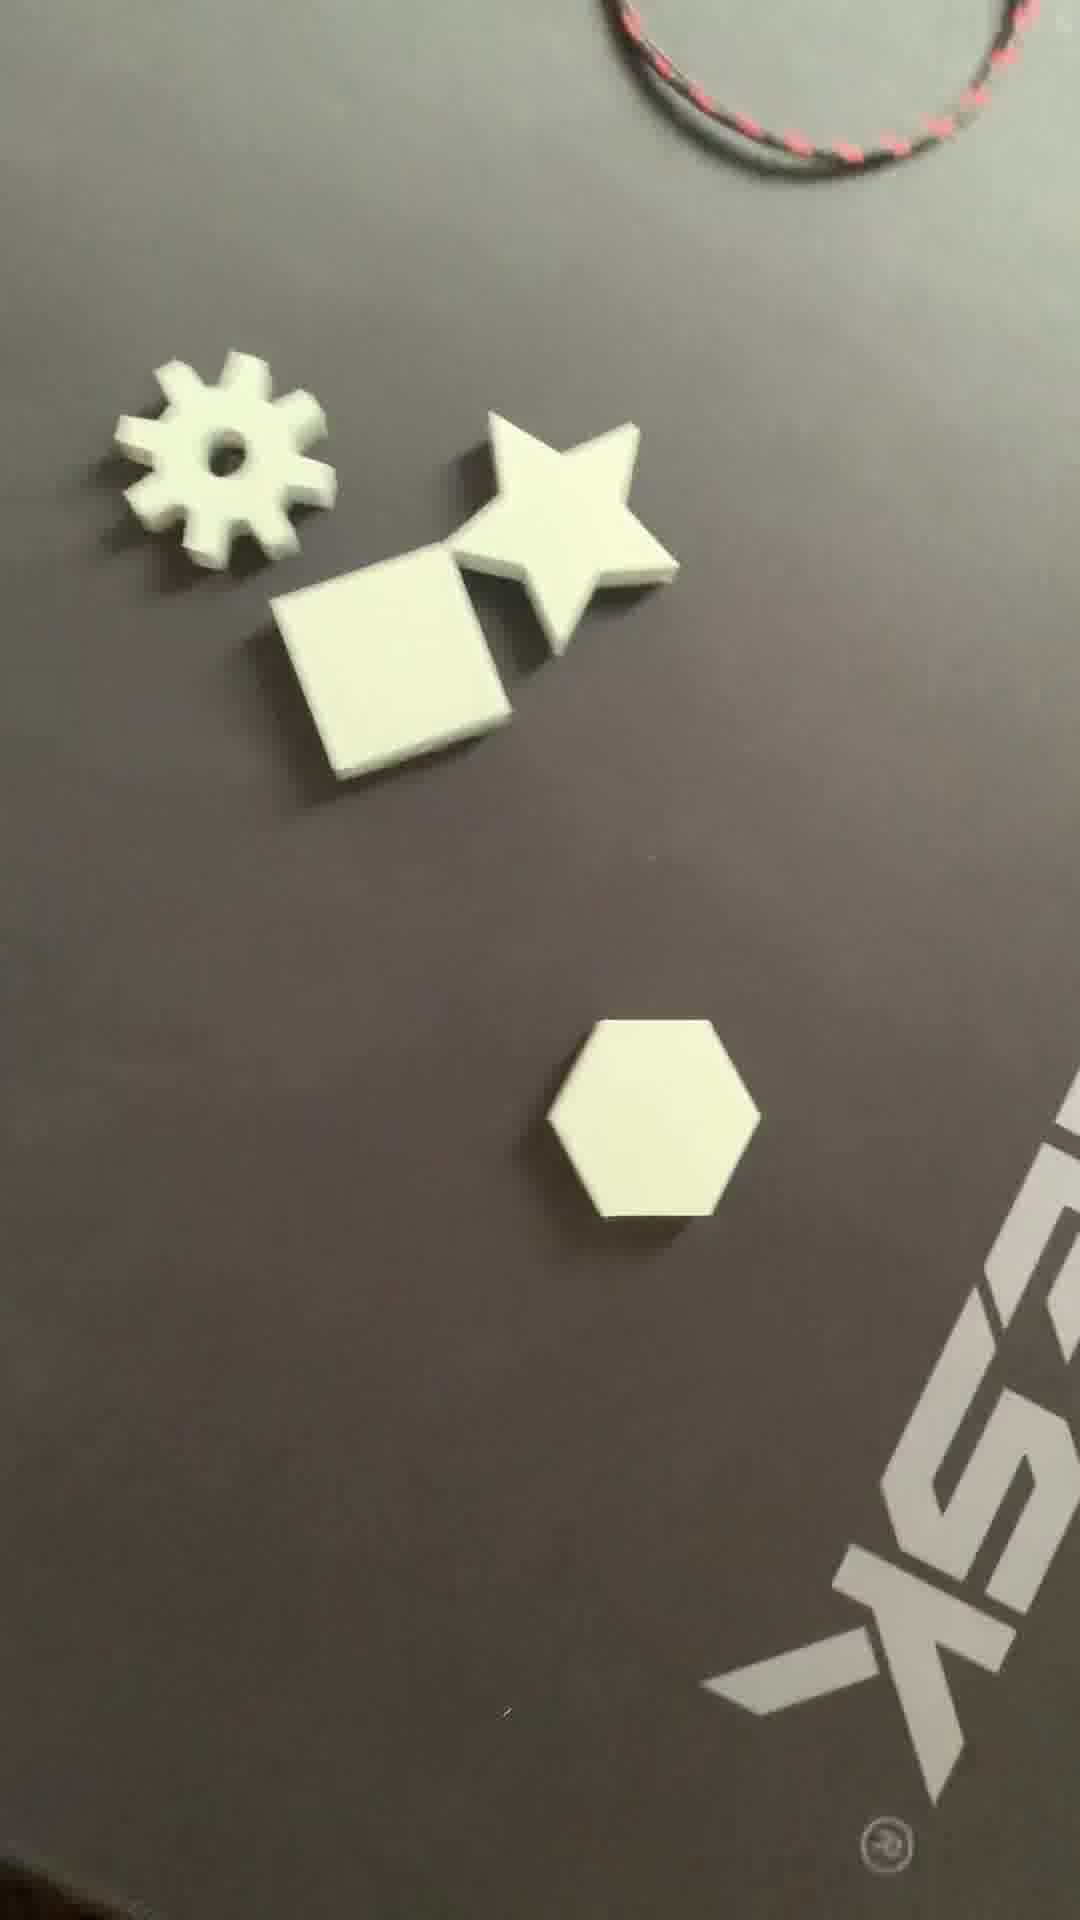Gray gear: (113, 340, 351, 571)
Gray hexagon: (533, 1021, 760, 1220)
Gray square: (268, 542, 517, 799)
Gray star: (447, 404, 676, 651)
